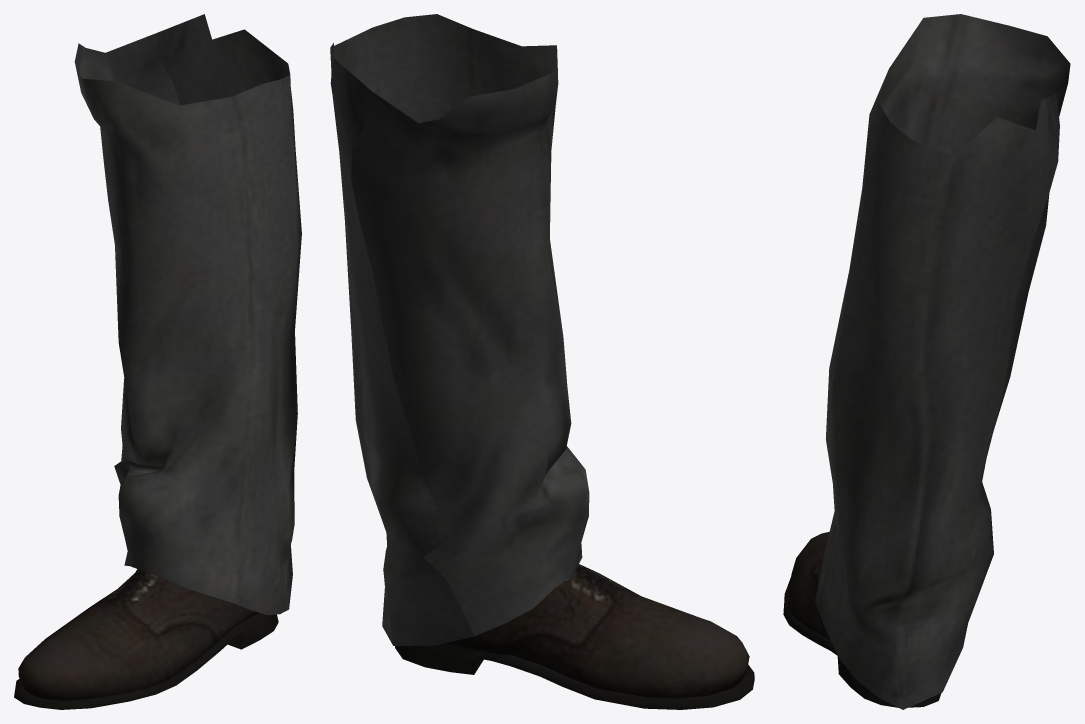
Rendered from Alumno2SubLeftLeg.obj.
3 renders of one model, left to right at view 1: azimuth 30°, elevation 25°; view 2: azimuth 150°, elevation 25°; view 3: azimuth 270°, elevation 25°, orthographic. The views are drawn at different scales.
Visible parts, largest first — view 1: Alumno2SubLeftLeg; view 2: Alumno2SubLeftLeg; view 3: Alumno2SubLeftLeg.
Boxes of the visible parts, x1,y1,x2,y2 form: Alumno2SubLeftLeg: [14, 14, 301, 709]; Alumno2SubLeftLeg: [330, 14, 754, 709]; Alumno2SubLeftLeg: [783, 14, 1070, 709].
Size of the model in its own units: 0.4363 by 0.7436 by 0.313.
1 material, 1 textured.
